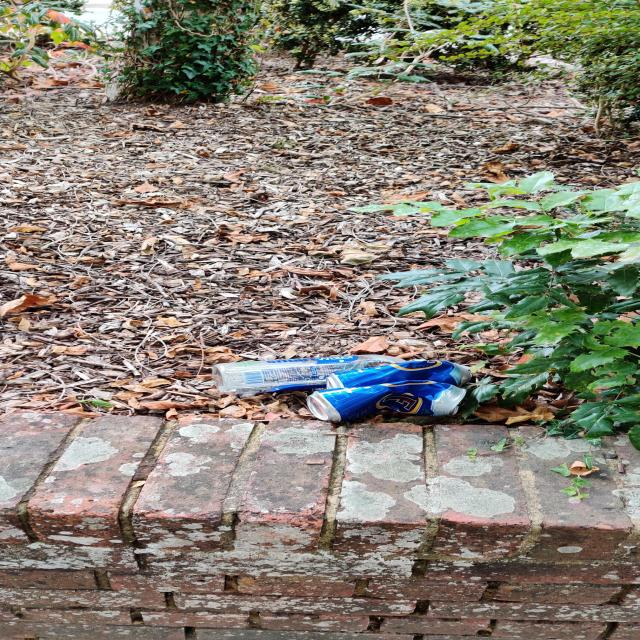litter: (79, 324, 614, 459)
